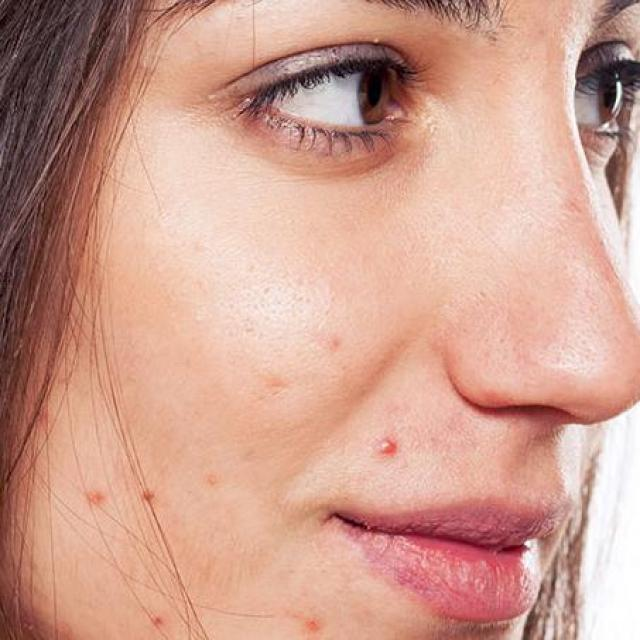Pimples: (134, 485, 154, 504), (86, 486, 103, 508), (376, 436, 396, 454), (152, 614, 164, 628)
